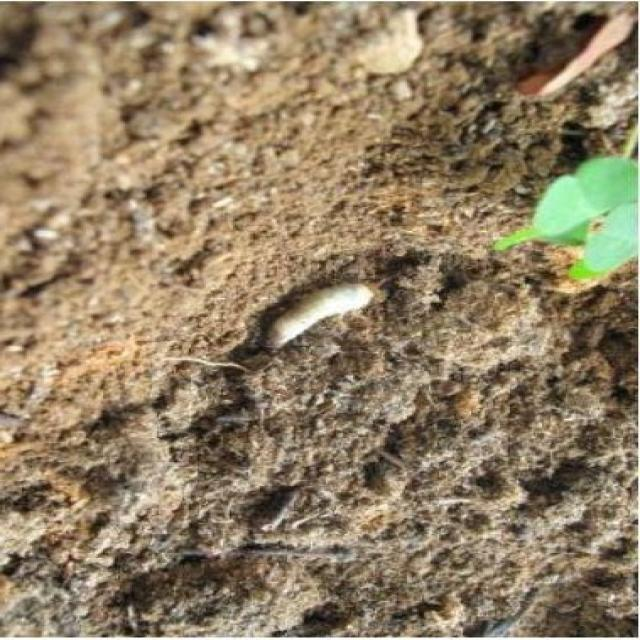grub: (267, 273, 387, 355)
